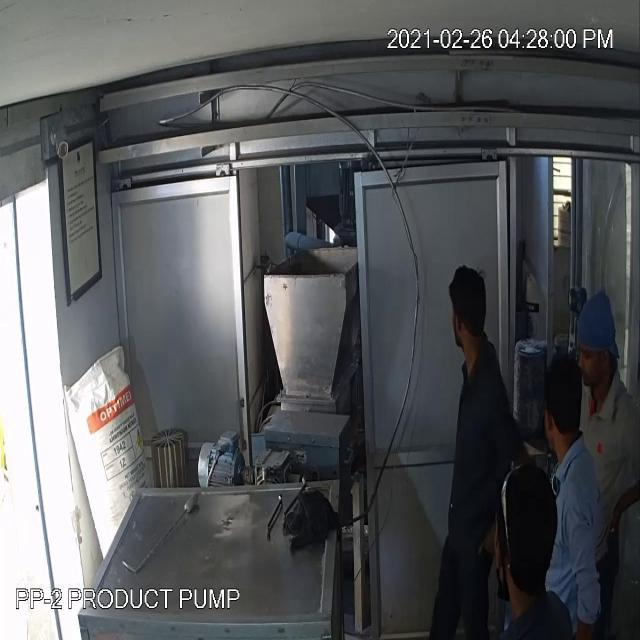no-helmet: (536, 351, 584, 450), (441, 272, 491, 346)
